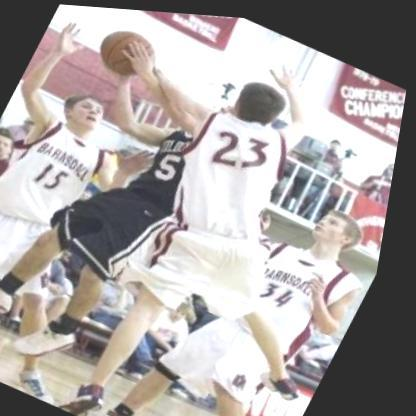basketball: (87, 14, 171, 88)
